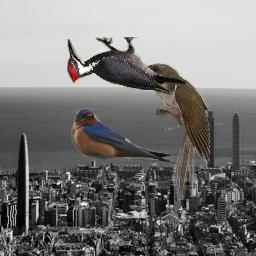Cuckoo: (134, 62, 210, 200)
Swallow: (71, 108, 182, 165)
Woodpecker: (67, 37, 186, 95)
